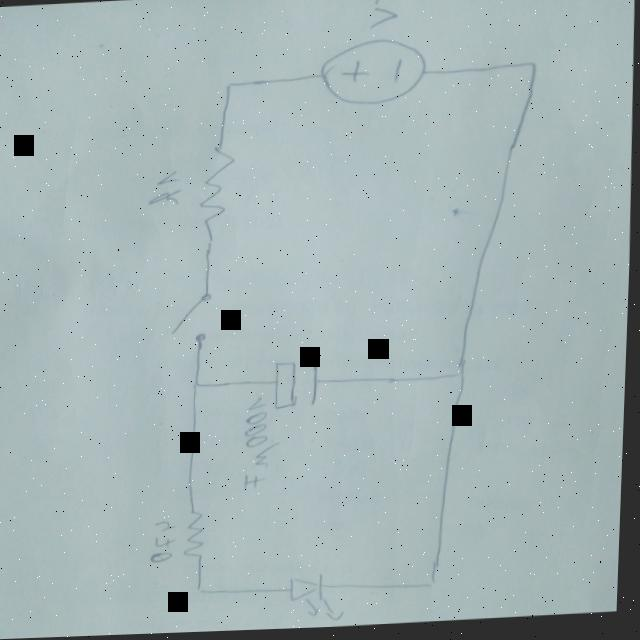capacitor: (272, 358, 326, 411)
diode: (290, 567, 358, 626)
junction: (451, 367, 474, 386), (522, 57, 543, 77), (219, 78, 241, 95), (190, 376, 209, 391), (427, 580, 447, 593), (195, 583, 213, 597)
resistor: (196, 141, 240, 233), (184, 505, 213, 562)
source: (319, 37, 428, 110)
switch: (167, 290, 216, 347)
text: (242, 397, 286, 493), (363, 0, 423, 33), (147, 167, 187, 213), (150, 514, 181, 564)
